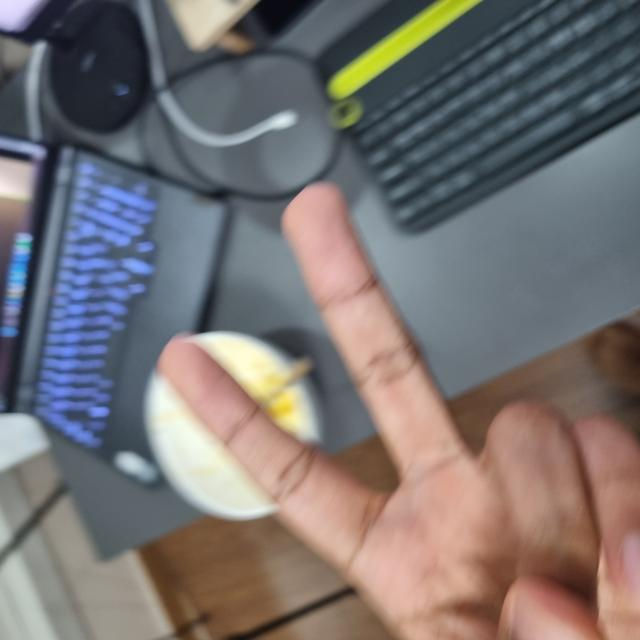Scissors: (0, 161, 447, 639)
